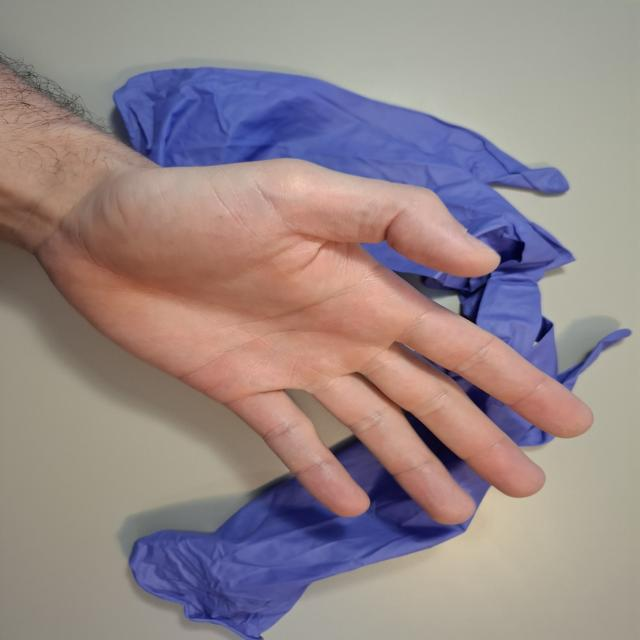glove_off: (32, 152, 598, 529)
